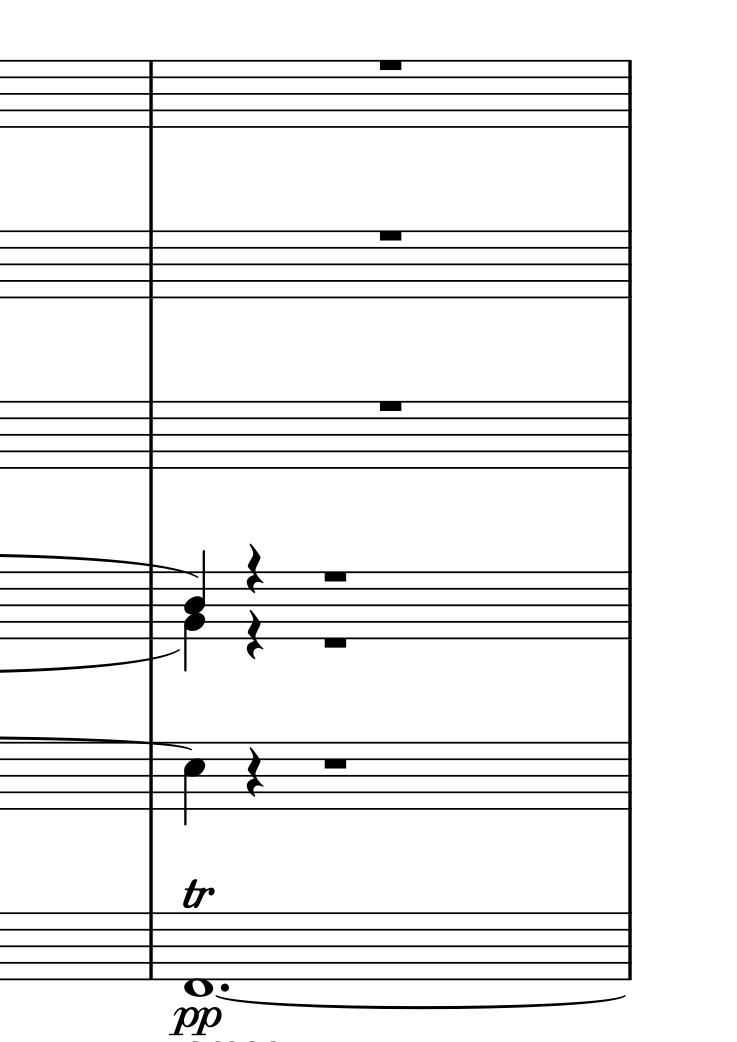1_-1: (184, 910, 214, 998)
4_2_4: (183, 552, 206, 676)
4_5: (183, 741, 207, 826)
Rests1: (315, 755, 351, 776), (375, 224, 405, 248), (321, 631, 347, 655), (376, 55, 404, 76), (321, 567, 350, 587), (379, 396, 406, 415)
Rests4: (241, 744, 265, 799), (245, 545, 264, 594), (246, 611, 263, 660)
Single_barline: (141, 744, 161, 810), (619, 742, 638, 810), (141, 913, 160, 980), (619, 572, 637, 640), (620, 401, 638, 469), (141, 401, 159, 468), (620, 60, 638, 127), (620, 231, 638, 297), (141, 61, 159, 126), (142, 231, 159, 297), (619, 913, 636, 979)
Trill: (180, 876, 217, 911)
dot: (217, 980, 233, 994)
pp: (170, 1006, 224, 1038)
